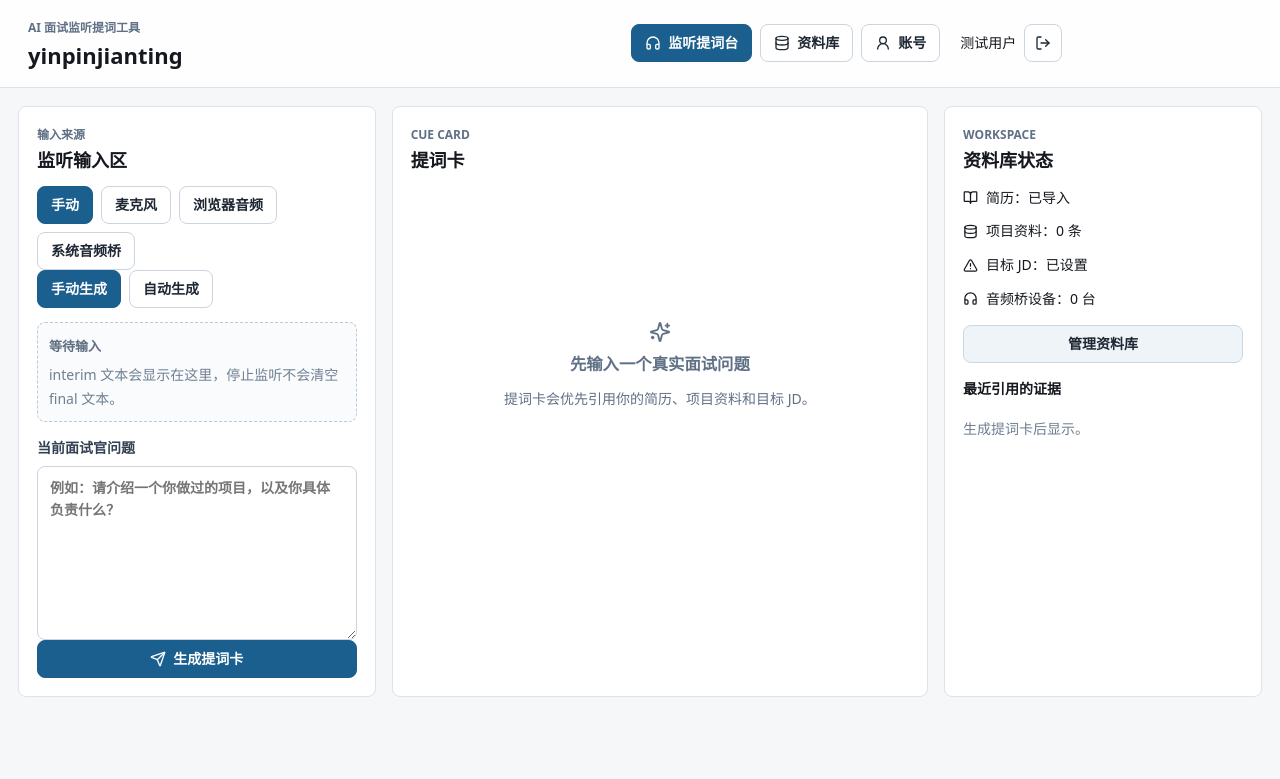
YinpinJiantingApp › generates a cue card from manual interviewer question with evidence trace
The width and height of the screenshot is (1280, 779).
Expected: the heading "监听输入区" is shown, [37,148,127,172]
Type "请介绍一个你做过的增长项目" into the text box with placeholder "例如：请介绍一个你做过的项目，以及你具体负责什么？" at (197, 553), box [37,466,357,640]
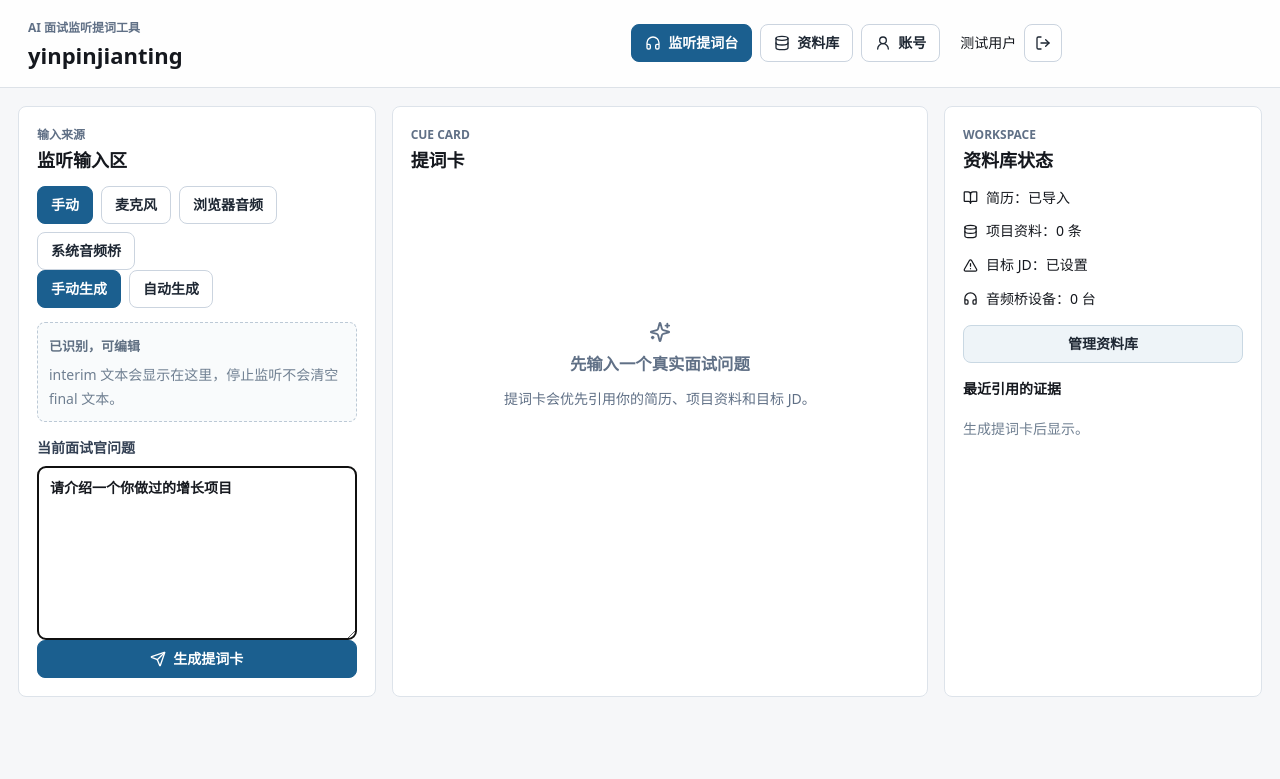
Click the button "生成提词卡" at (197, 659), box [37,640,357,678]
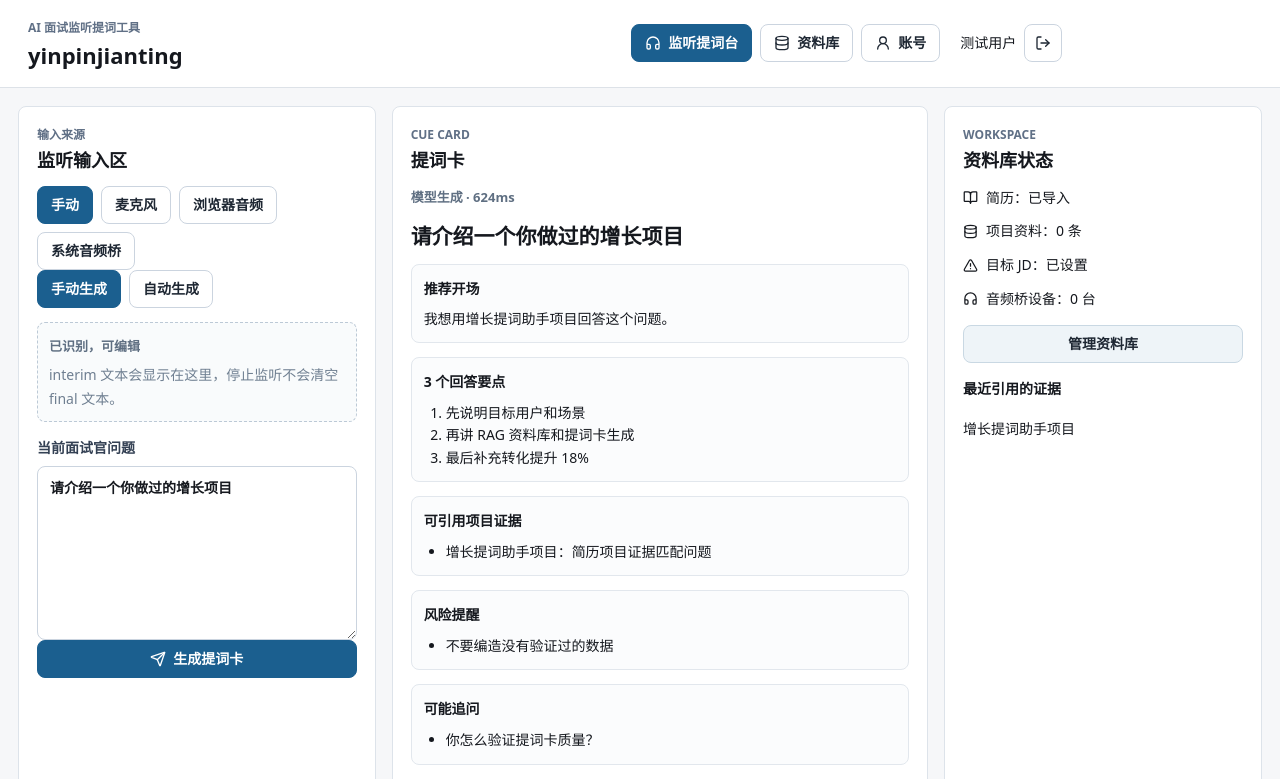
Expected: the text "我想用增长提词助手项目回答这个问题。" is shown, [424,309,676,328]
Expected: the list item "增长提词助手项目：简历项目证据匹配问题" is shown, [446,542,712,561]
Expected: the text "模型生成 · 624ms" is shown, [411,188,515,206]
